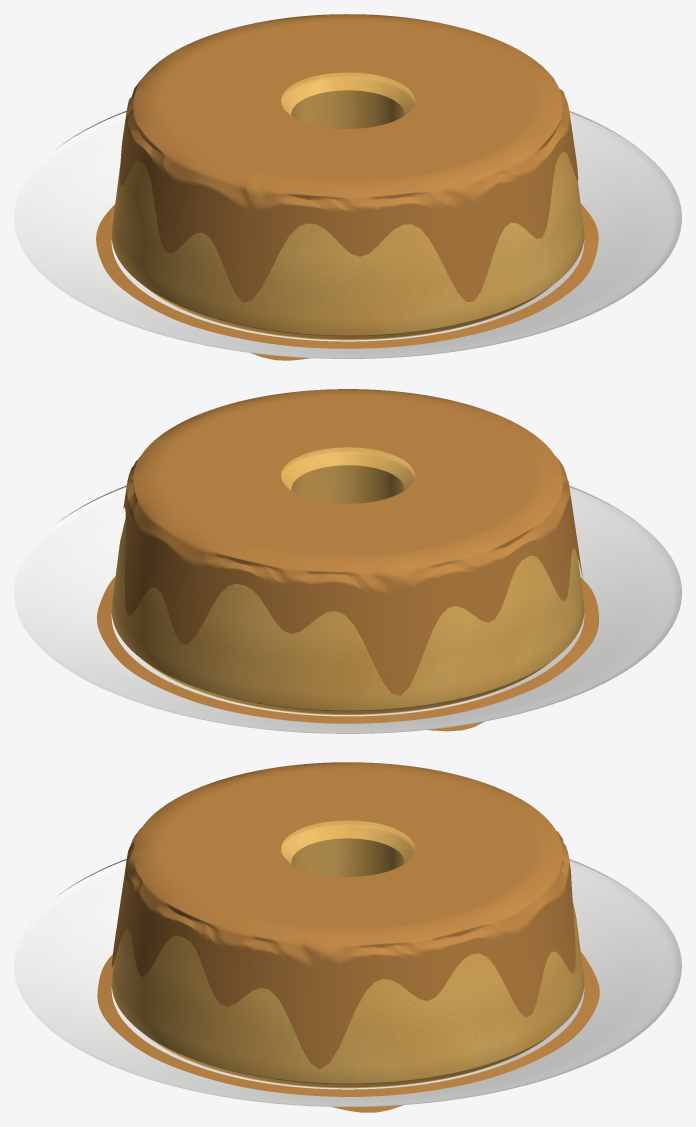
Rendered from pudim.glb.
3 views of the same model, one above another, from view 1: azimuth 30°, elevation 25°; view 2: azimuth 150°, elevation 25°; view 3: azimuth 270°, elevation 25° (orthographic).
Parts seen in each view (by area): view 1: pudim; view 2: pudim; view 3: pudim.
Boxes of the visible parts, box(x1,y1,x2,y2) form: pudim: box(14, 14, 681, 360); pudim: box(14, 389, 681, 733); pudim: box(14, 762, 681, 1112).
Bounding box in the file's own units: 0.26 × 0.0663 × 0.26.
Materials: 3 (1 with a texture image).
